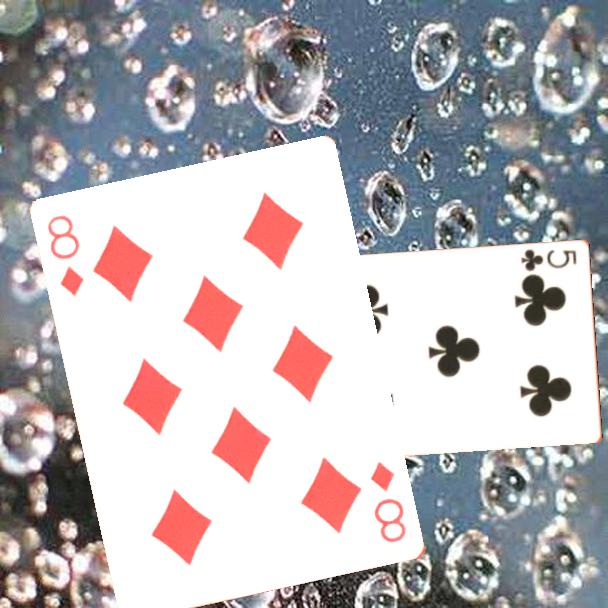c05: (518, 245, 580, 273)
d08: (367, 458, 410, 546), (44, 212, 87, 300)
